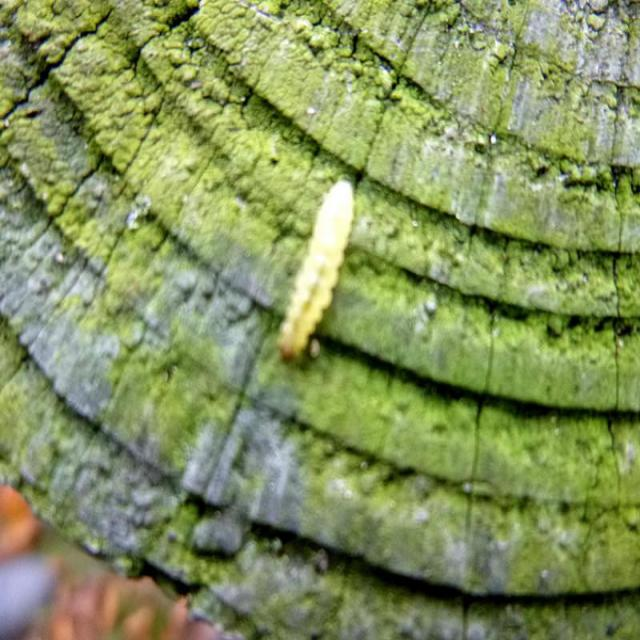Grub-Adult-: (259, 152, 379, 375)
